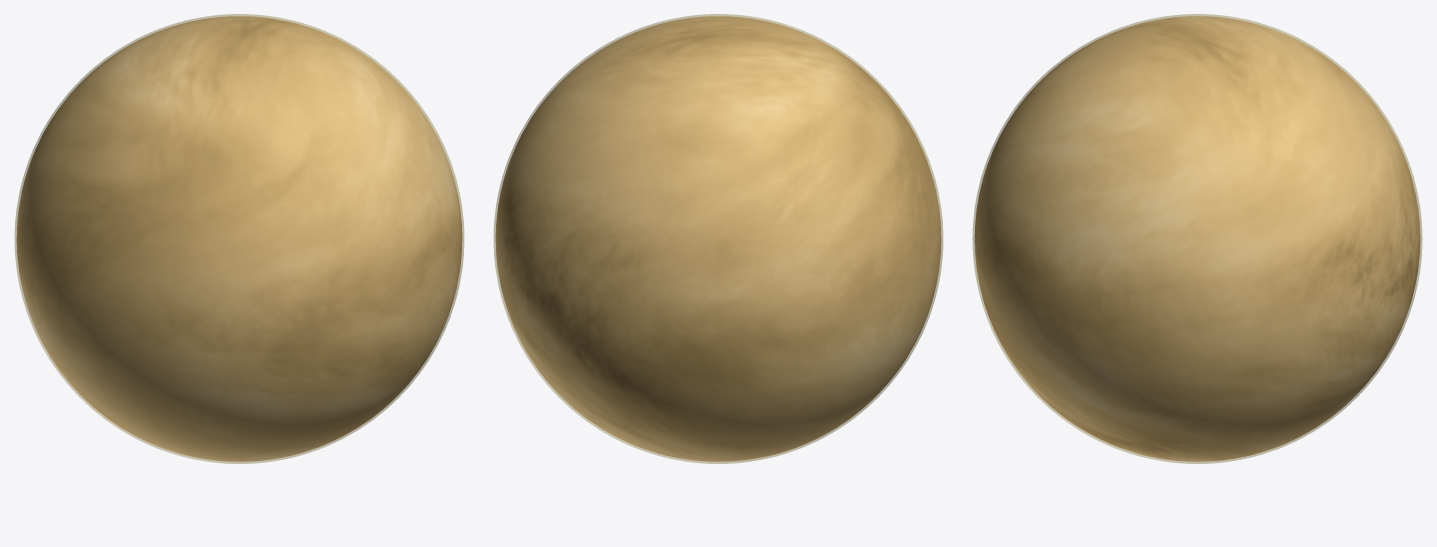
Rendered from Venus.glb.
3 views of the same model, side by side, from view 1: azimuth 30°, elevation 25°; view 2: azimuth 150°, elevation 25°; view 3: azimuth 270°, elevation 25° (orthographic).
Visible parts, largest first — view 1: Atmosphere_Atmosphere_0, Clouds_Clouds_0; view 2: Atmosphere_Atmosphere_0, Clouds_Clouds_0; view 3: Atmosphere_Atmosphere_0, Clouds_Clouds_0.
Part boxes in pixels (x1=…): Atmosphere_Atmosphere_0: x1=14, y1=14, x2=464, y2=463; Clouds_Clouds_0: x1=16, y1=16, x2=462, y2=461; Atmosphere_Atmosphere_0: x1=493, y1=14, x2=943, y2=463; Clouds_Clouds_0: x1=495, y1=16, x2=941, y2=461; Atmosphere_Atmosphere_0: x1=972, y1=14, x2=1422, y2=463; Clouds_Clouds_0: x1=974, y1=16, x2=1420, y2=461.
Size of the model in its own units: 2.04 by 2.49 by 2.04.
3 materials, 1 textured.
